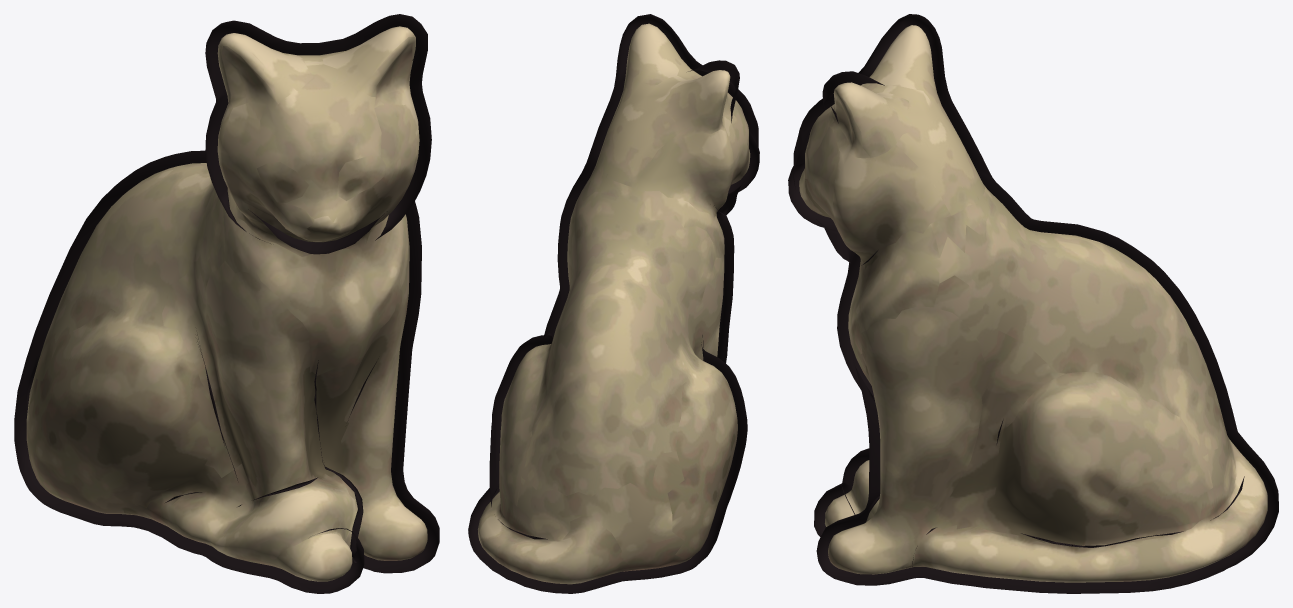
The model's file is SM_Int_CatStatue.fbx.
3 renders of one model, left to right at view 1: azimuth 30°, elevation 25°; view 2: azimuth 150°, elevation 25°; view 3: azimuth 270°, elevation 25°, orthographic. The views are drawn at different scales.
Parts seen in each view (by area): view 1: SM_Int_CatStatue; view 2: SM_Int_CatStatue; view 3: SM_Int_CatStatue.
Part boxes in pixels (left/top/right/bottom): SM_Int_CatStatue: left=14, top=14, right=439, bottom=593; SM_Int_CatStatue: left=468, top=14, right=759, bottom=593; SM_Int_CatStatue: left=788, top=14, right=1278, bottom=593.
Size of what is drawn, in the model's own units: 0.1649 by 0.295 by 0.2618.
